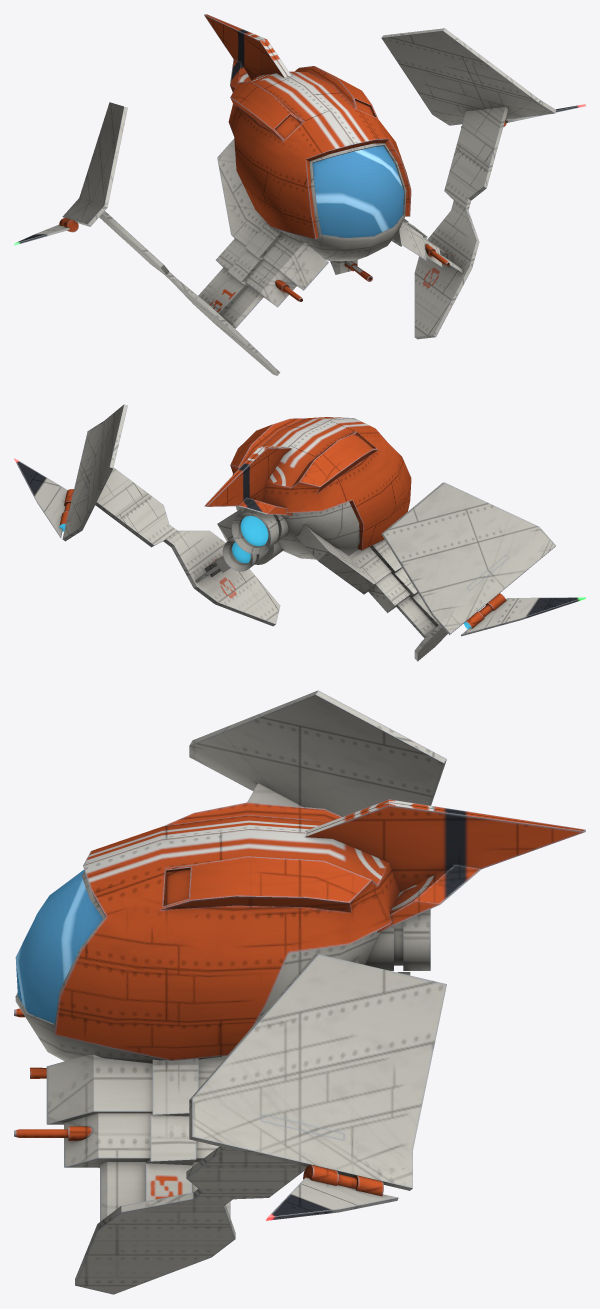
Rendered from Protos.glb.
3 views of the same model, one above another, from view 1: azimuth 30°, elevation 25°; view 2: azimuth 150°, elevation 25°; view 3: azimuth 270°, elevation 25° (orthographic). The views are drawn at different scales.
Parts seen in each view (by area): view 1: Куб.009; view 2: Куб.009; view 3: Куб.009.
Part boxes in pixels (left/top/right/bottom): Куб.009: left=14, top=14, right=585, bottom=375; Куб.009: left=14, top=404, right=585, bottom=661; Куб.009: left=14, top=690, right=585, bottom=1294.
Bounding box in the file's own units: 0.5002 × 0.2148 × 0.2572.
4 materials, 4 textured.
